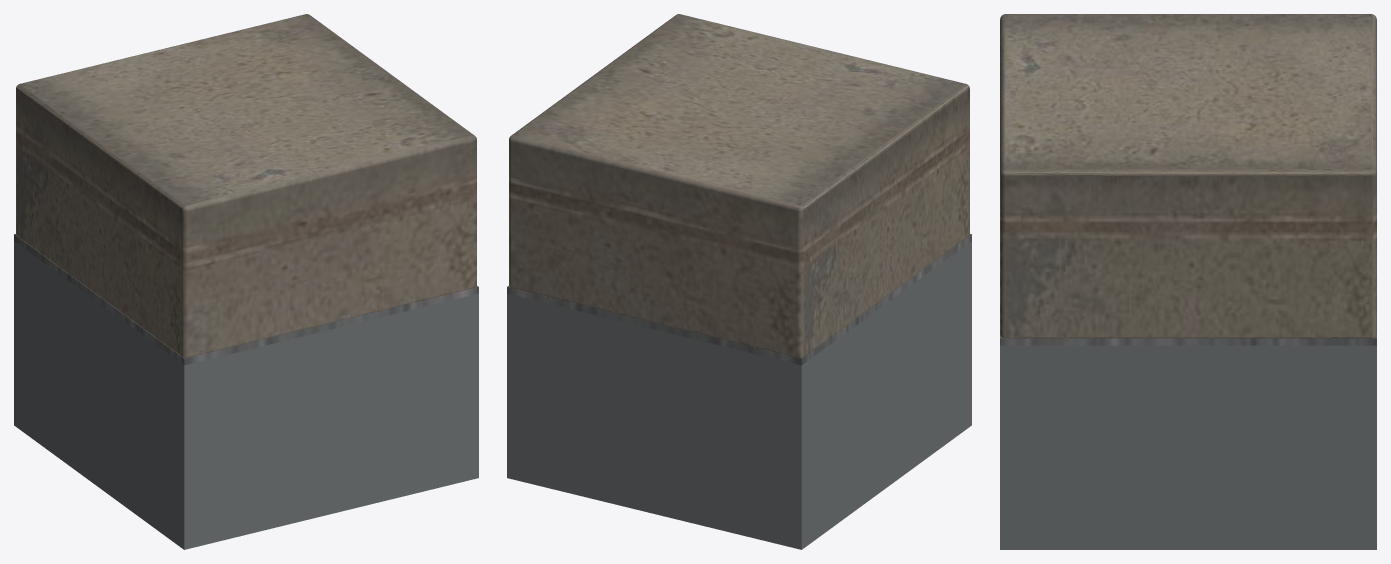
Rendered from wall.glb.
The picture shows the model from 3 angles, left to right: view 1: azimuth 30°, elevation 25°; view 2: azimuth 150°, elevation 25°; view 3: azimuth 270°, elevation 25°; orthographic projection. The views are drawn at different scales.
Parts seen in each view (by area): view 1: BRALUNIT_CONCRETE_BLOCK, wall_base, wall_stone; view 2: BRALUNIT_CONCRETE_BLOCK, wall_base, wall_stone; view 3: BRALUNIT_CONCRETE_BLOCK, wall_base, wall_stone.
Boxes of the visible parts, box(x1,y1,x2,y2) form: BRALUNIT_CONCRETE_BLOCK: box(16, 14, 476, 357); wall_base: box(14, 241, 478, 549); wall_stone: box(14, 234, 478, 365); BRALUNIT_CONCRETE_BLOCK: box(509, 14, 969, 357); wall_base: box(507, 241, 971, 549); wall_stone: box(507, 234, 971, 365); BRALUNIT_CONCRETE_BLOCK: box(1000, 14, 1376, 338); wall_base: box(1000, 345, 1376, 549); wall_stone: box(1000, 335, 1376, 345).
Size of the model in its own units: 2 by 2.22 by 2.
Materials: 3 (2 with a texture image).
